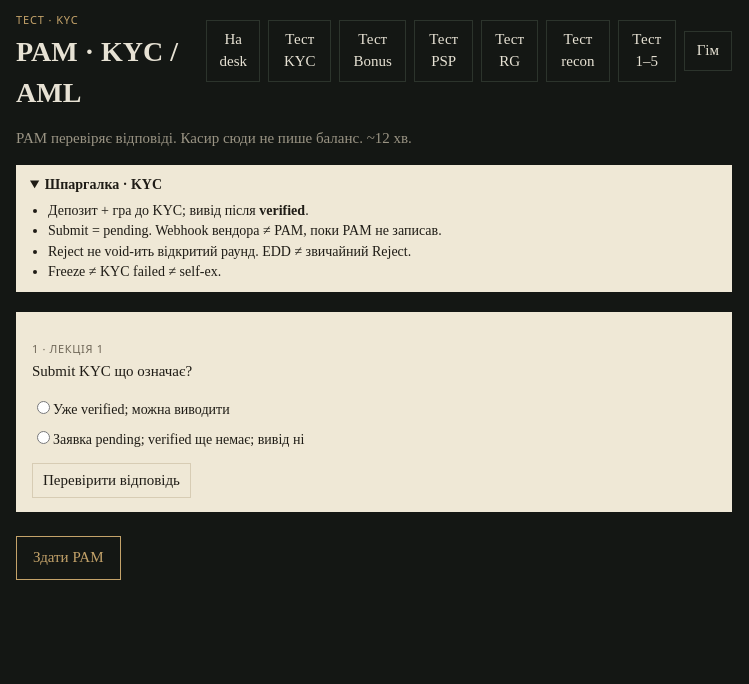
Test: kyc exam submits to PAM grade
Check: the text "Submit KYC що означає?" is shown, box [32, 363, 192, 379]
Click the radio button labelled "Заявка pending; verified ще немає; вивід ні" at (44, 438), box [37, 431, 50, 444]
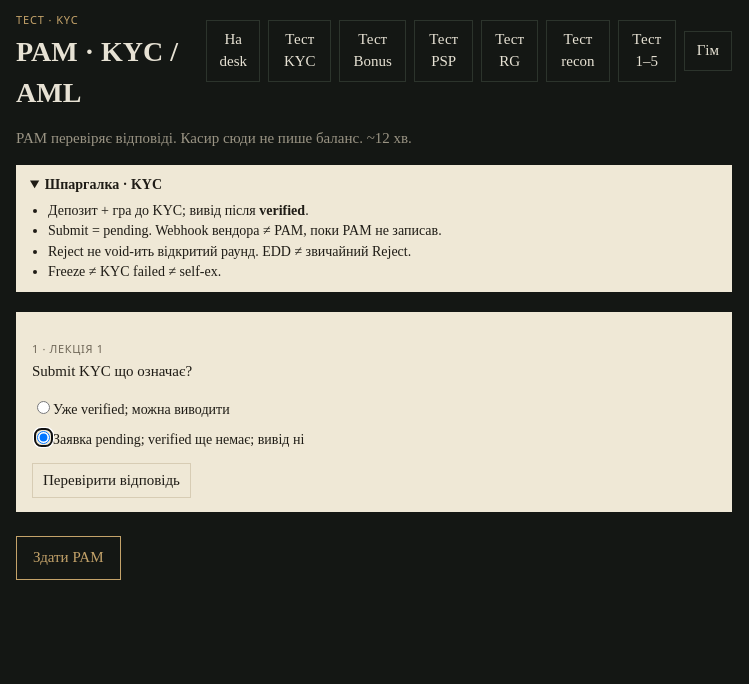
Click the button with test id "exam-submit" at (68, 558), box [16, 536, 120, 580]
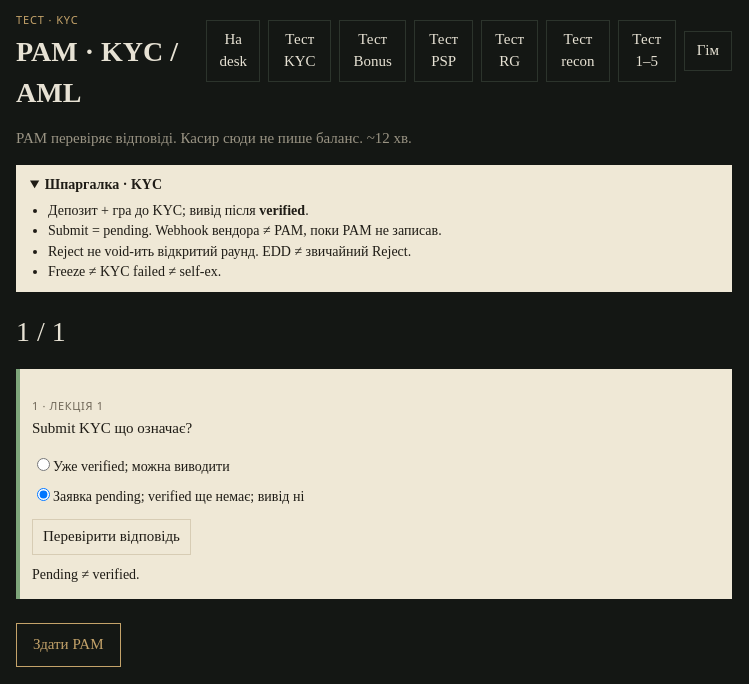
Check: the text with test id "exam-score" reads "1 / 1", box [16, 316, 66, 347]
